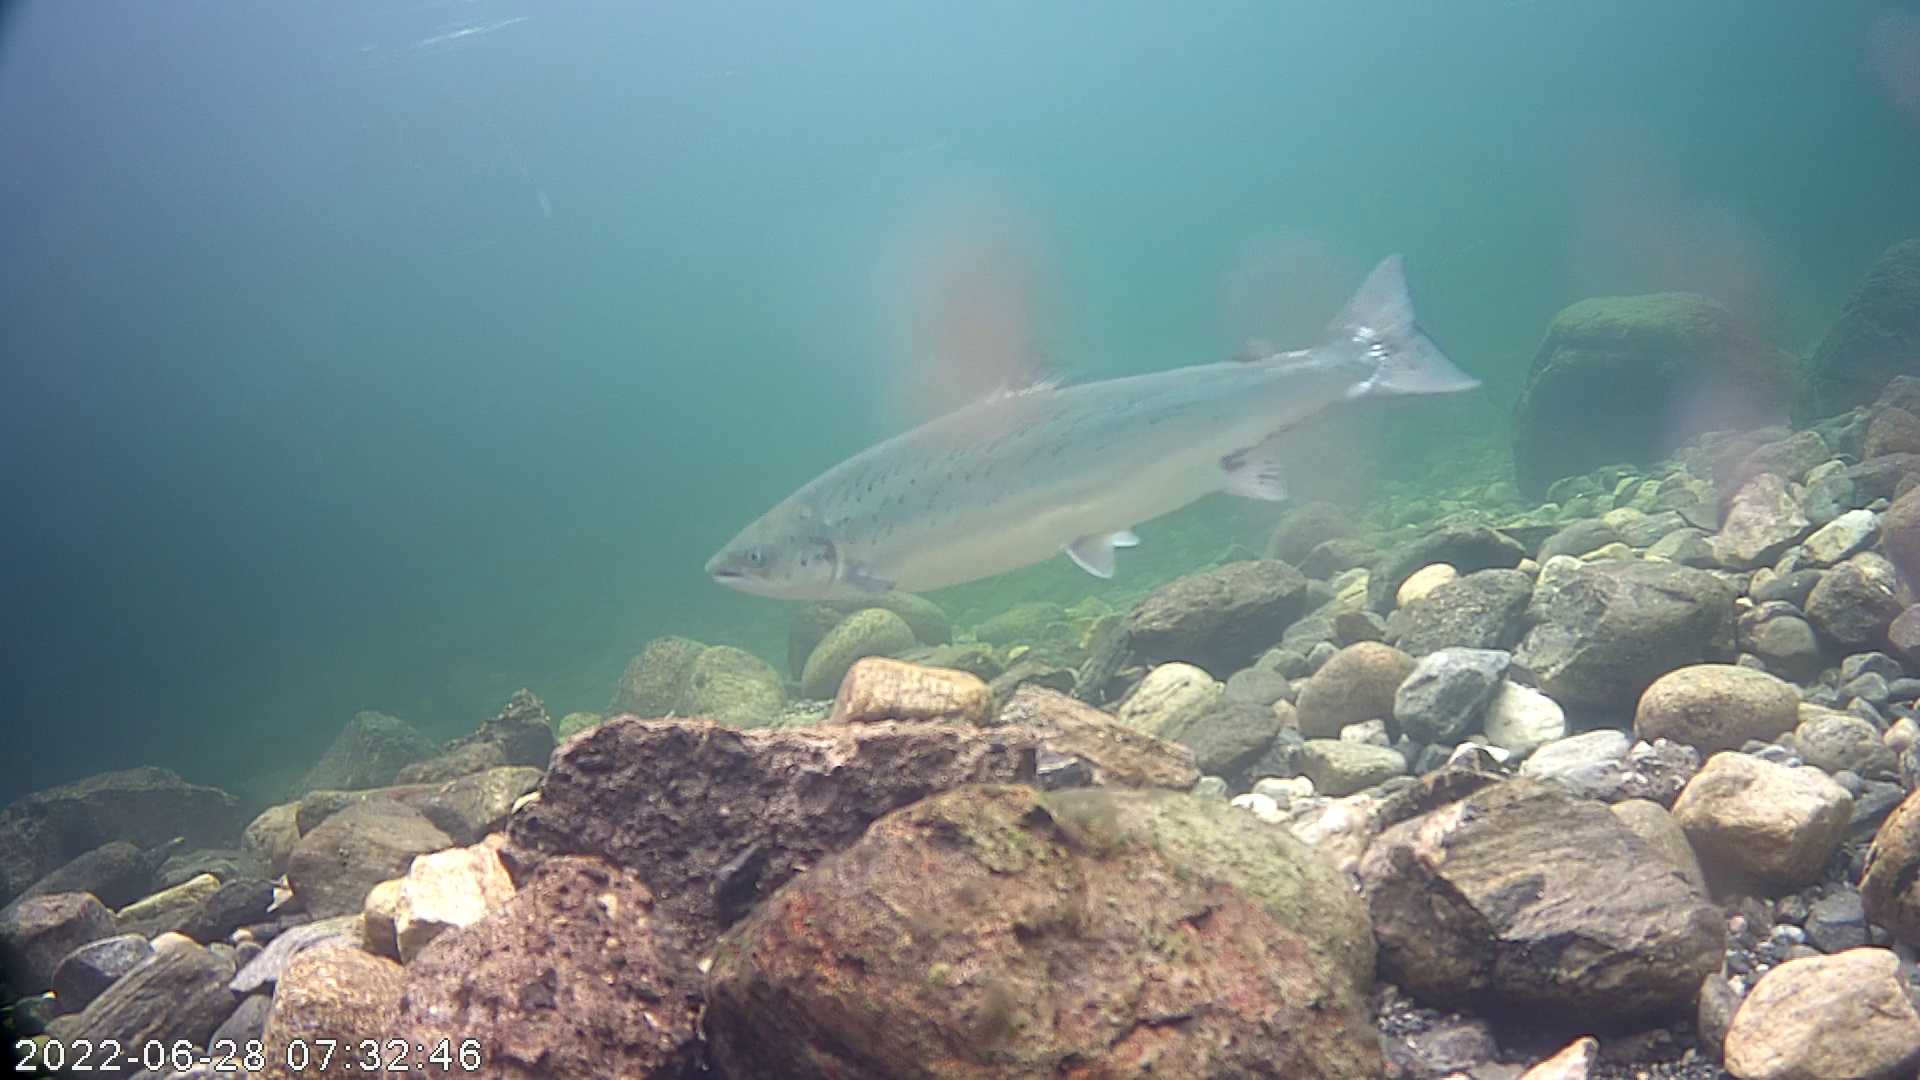salmon: (698, 196, 1516, 657)
